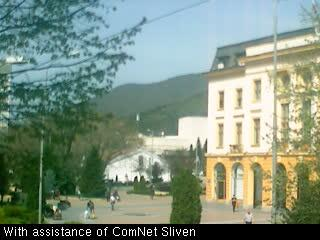person: (86, 200, 94, 219), (244, 210, 253, 225), (231, 195, 238, 213), (110, 194, 116, 211), (149, 185, 154, 199), (54, 187, 59, 201), (113, 190, 118, 202), (116, 195, 120, 209), (107, 192, 111, 206), (51, 188, 55, 202)
